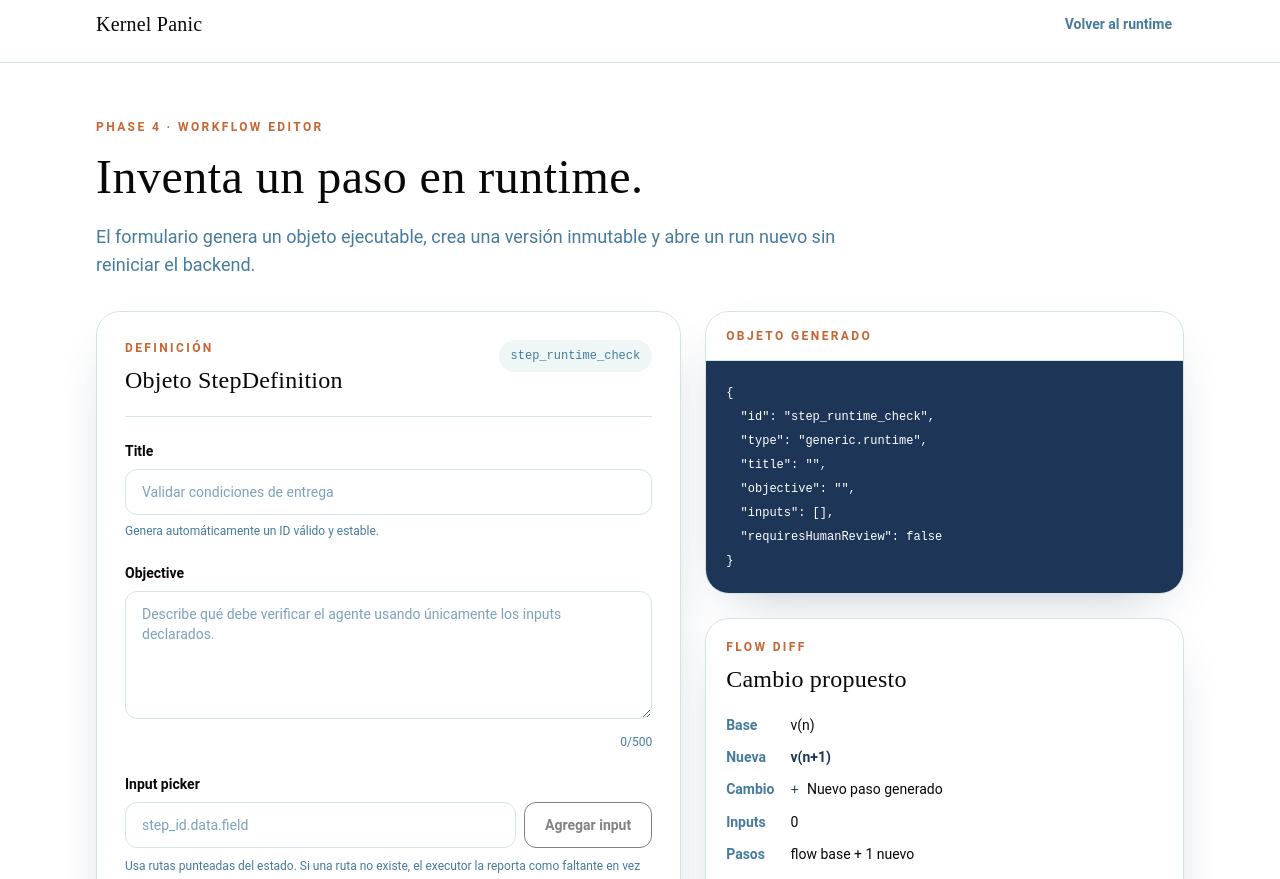
WorkflowEditor › generates a valid StepDefinition object from the form
The image size is (1280, 879).
In the field labelled "Title": [389, 492] box [125,469,652,515], type "Validar condición crítica"
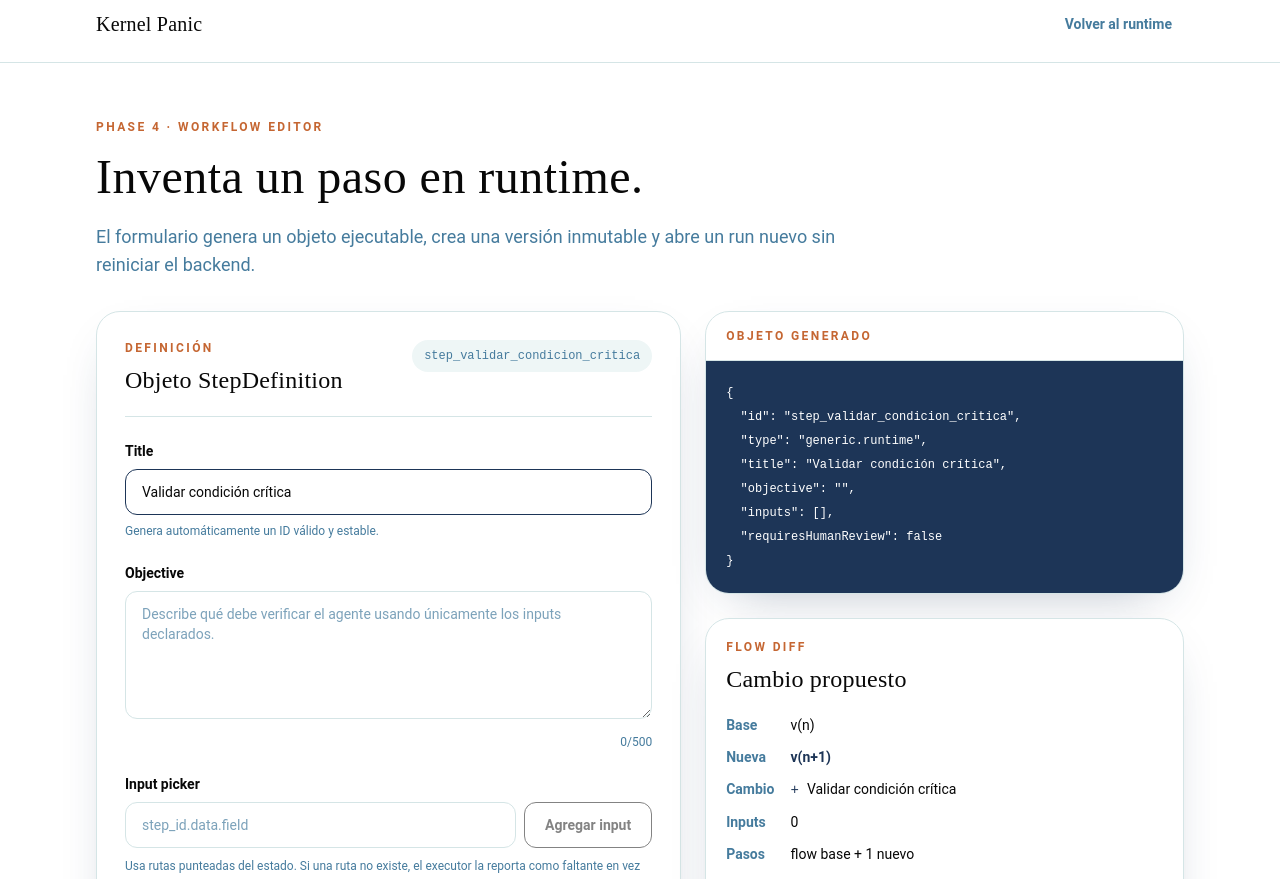
In the text box labelled "Objective": [389, 655] box [125,591,652,719], type "Comparar los valores declarados sin inventar información."
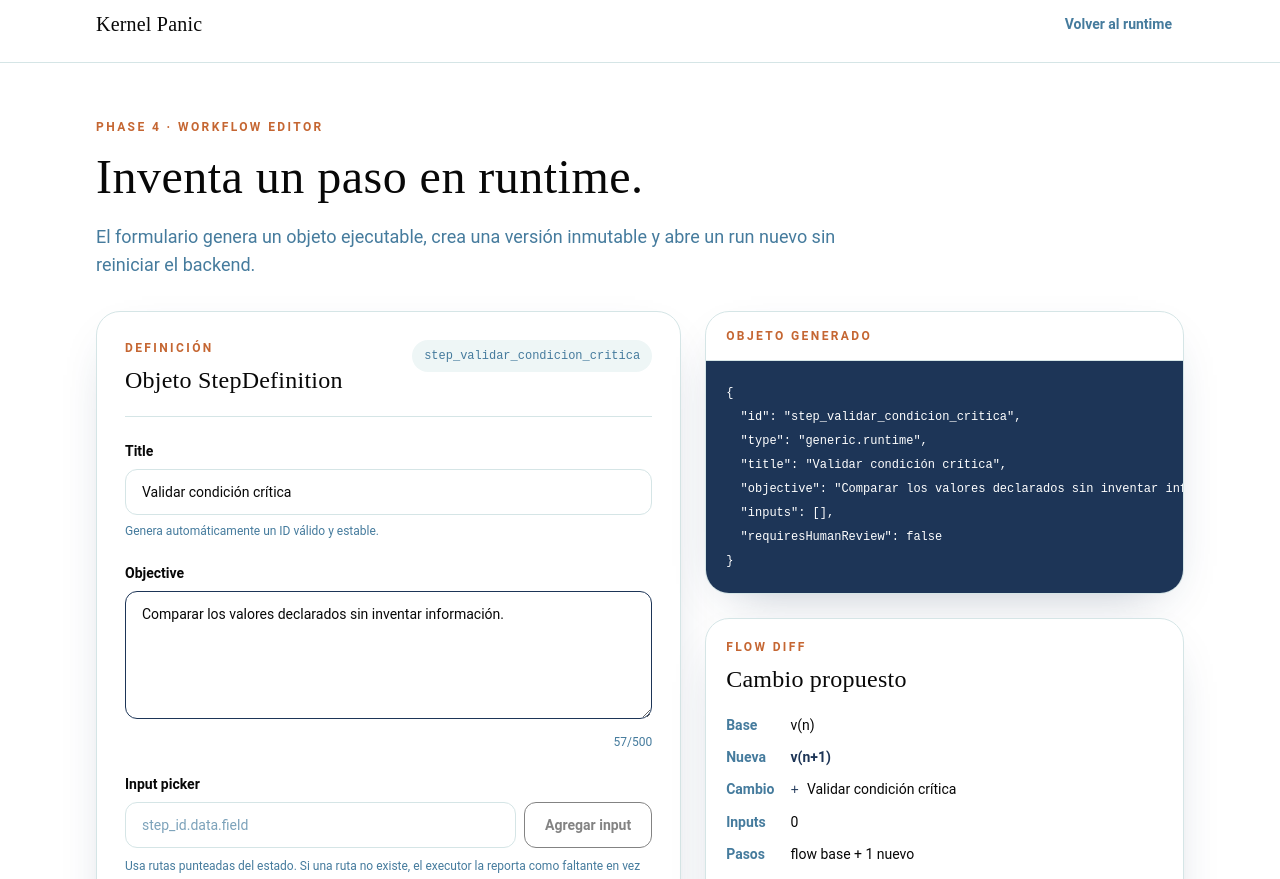
In the field labelled "Input picker": [321, 825] box [125,802,516,848], type "source.data.score"
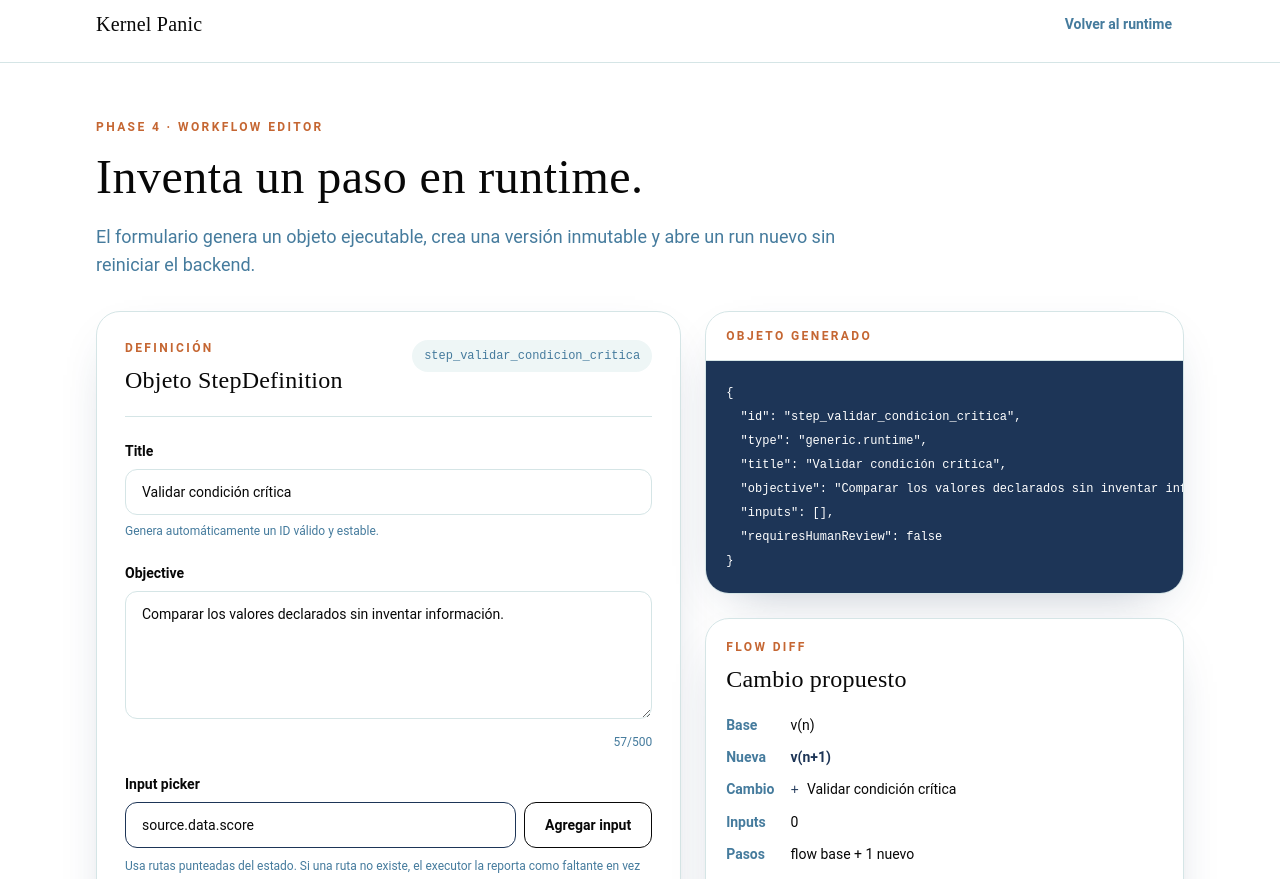
Click the button "Agregar input": [588, 825] box [524,802,652,848]
(page scrolled)
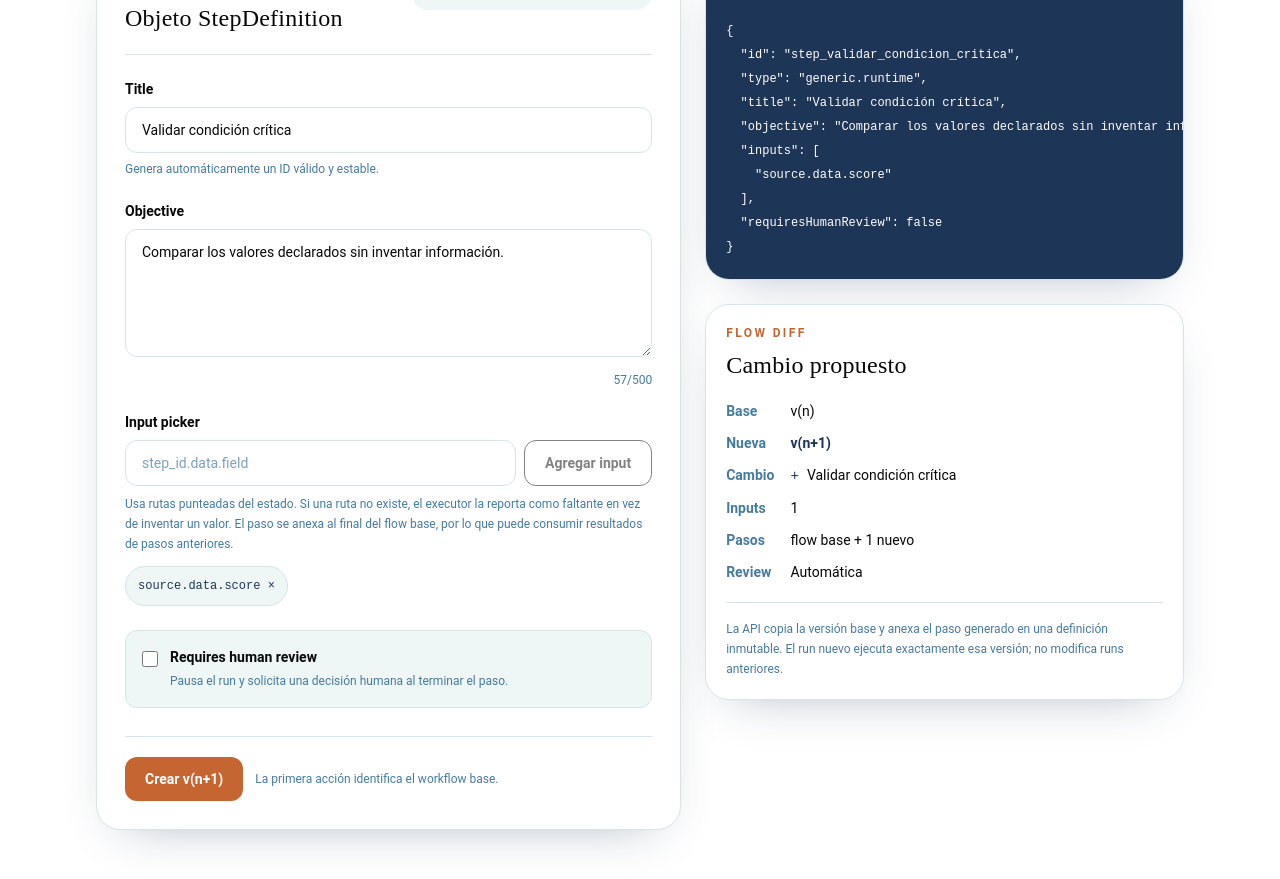
Click the checkbox labelled "Requires human review": [150, 659] box [142,651,158,667]
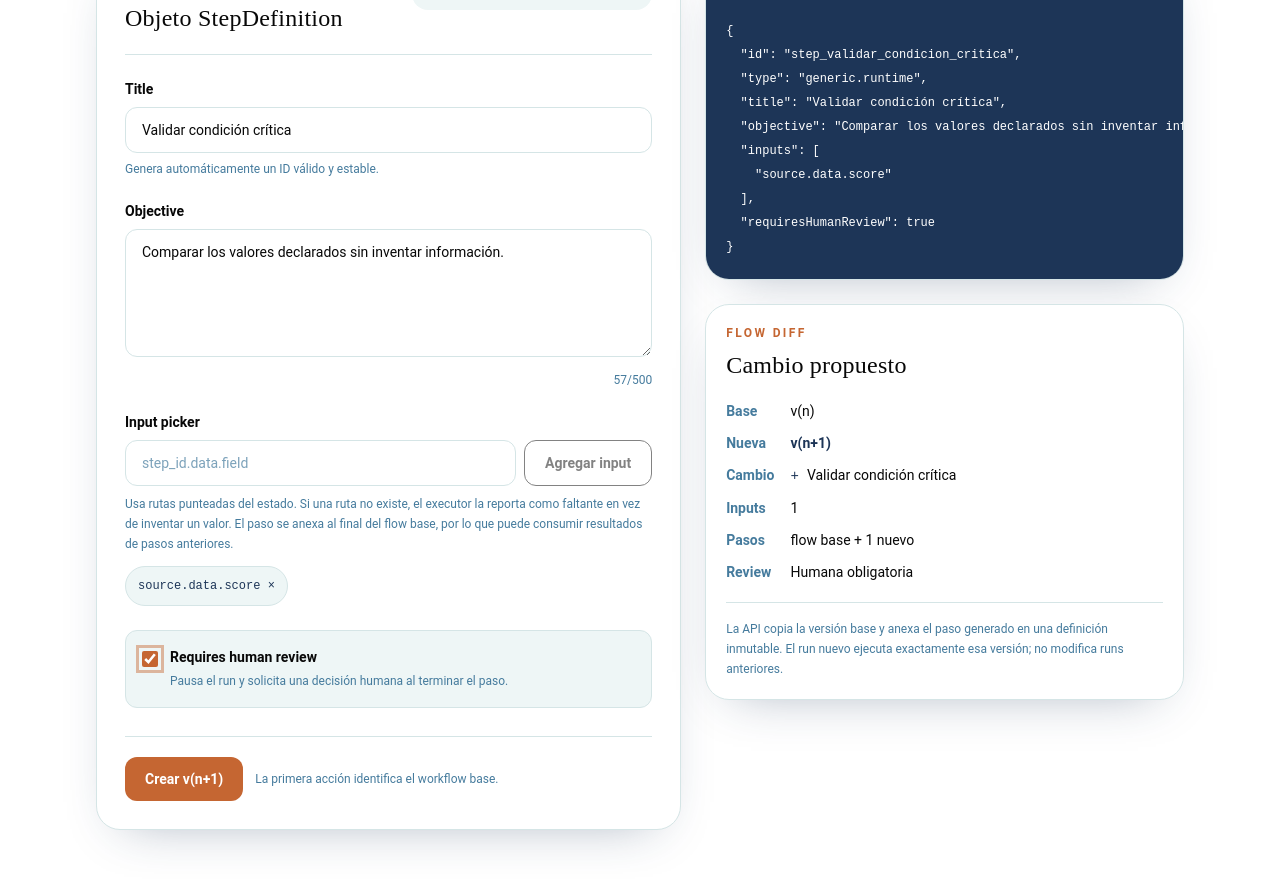
Check: the text named "Vista previa JSON del paso" shows "step_validar_condicion_critica", box [726,24,1184,254]
Check: the text named "Vista previa JSON del paso" shows "source.data.score", box [726,24,1184,254]
Check: the text named "Vista previa JSON del paso" shows "\"requiresHumanReview\": true", box [726,24,1184,254]
